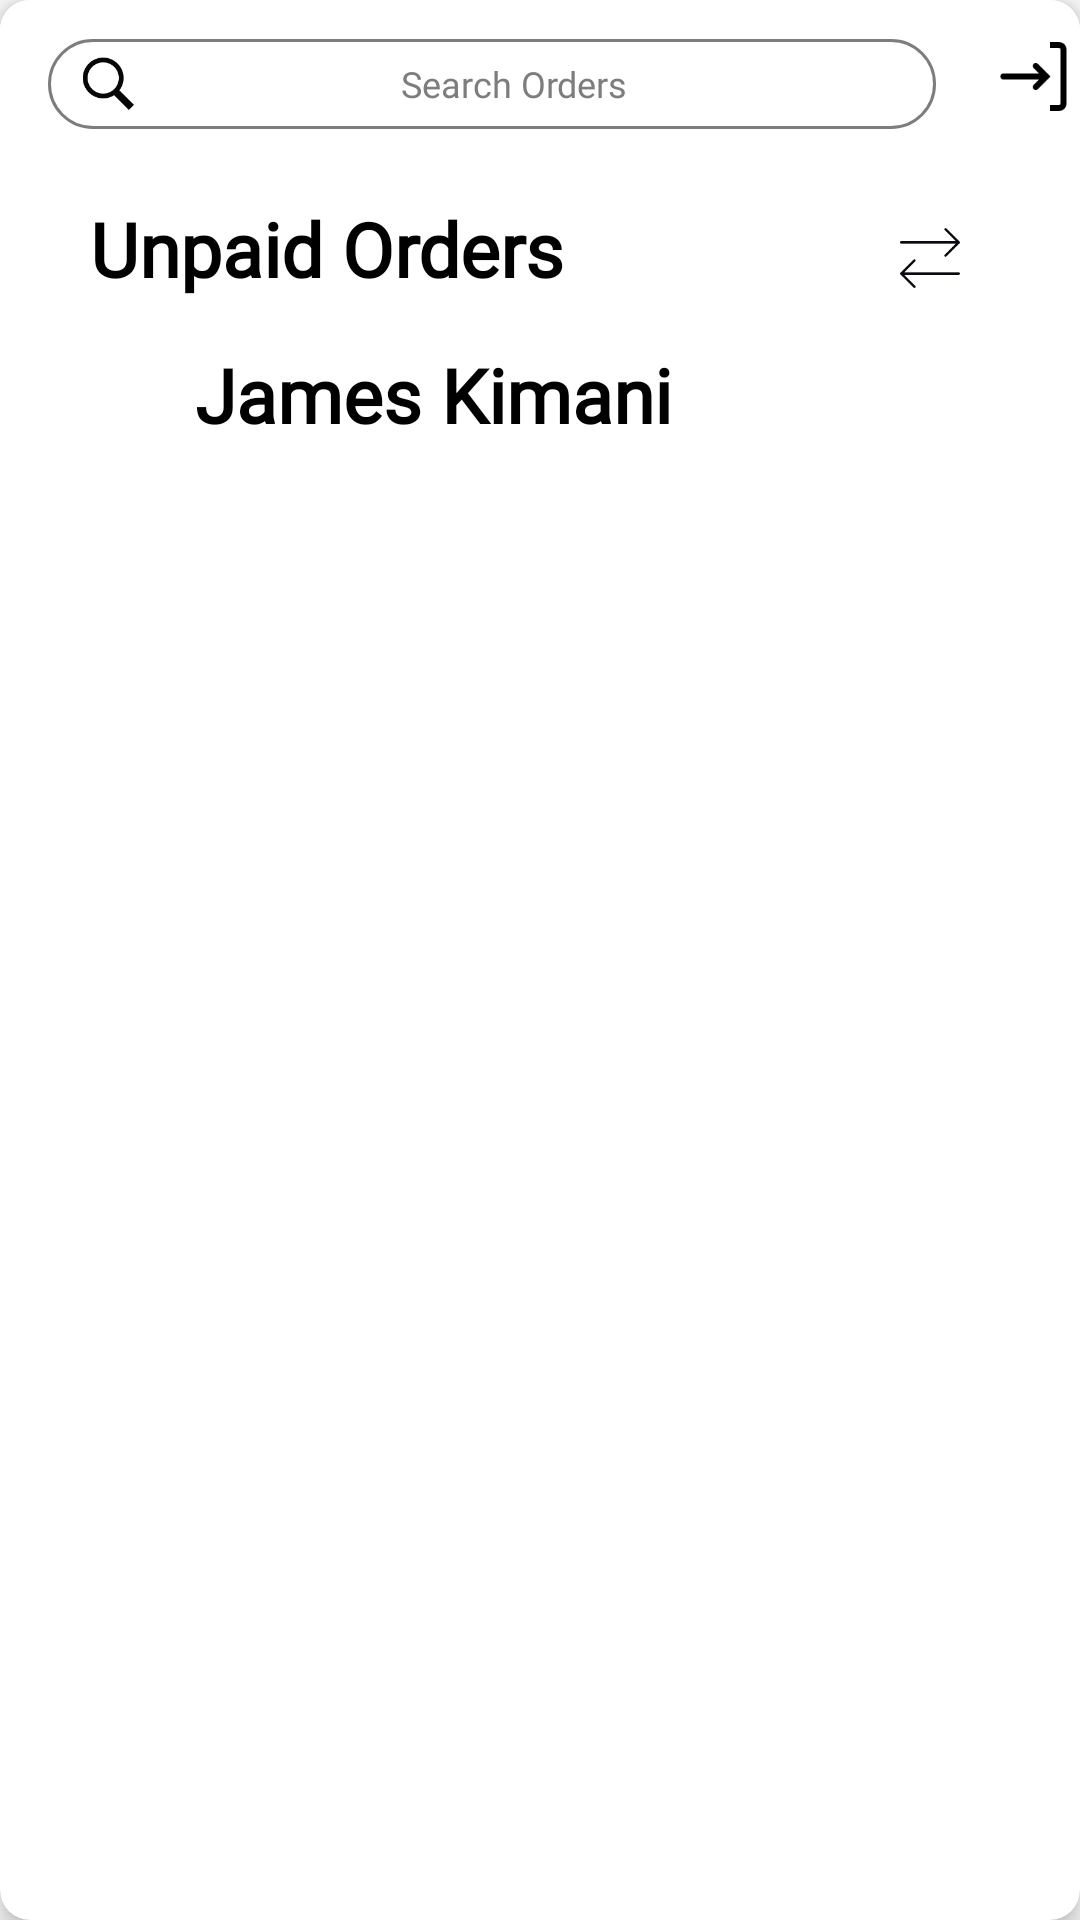

Icons on this 1080*1920 Android screen, each with its box as box(x1, y1, x2, y2):
any direction: box(900, 228, 960, 288)
